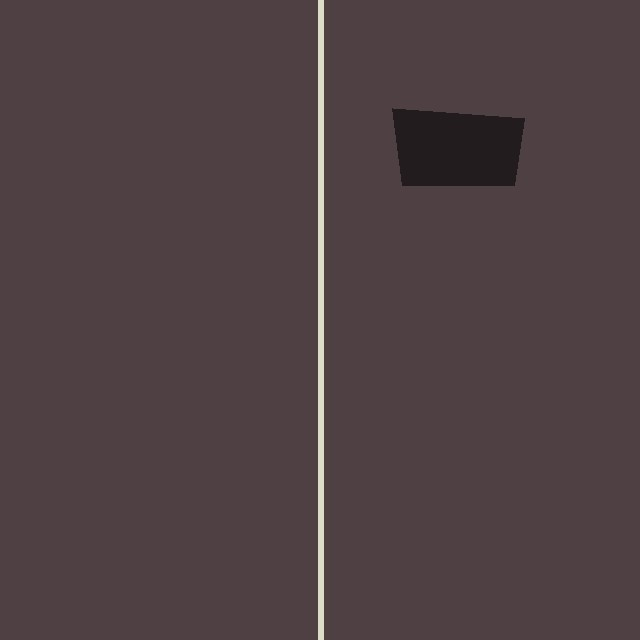damaged_surface: (392, 108, 524, 185)
